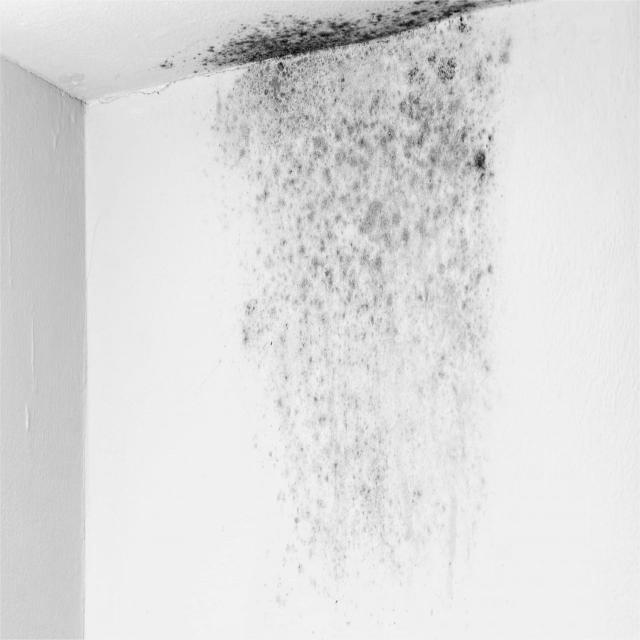stain marks: (192, 0, 522, 640), (50, 60, 95, 103), (137, 48, 191, 80)
